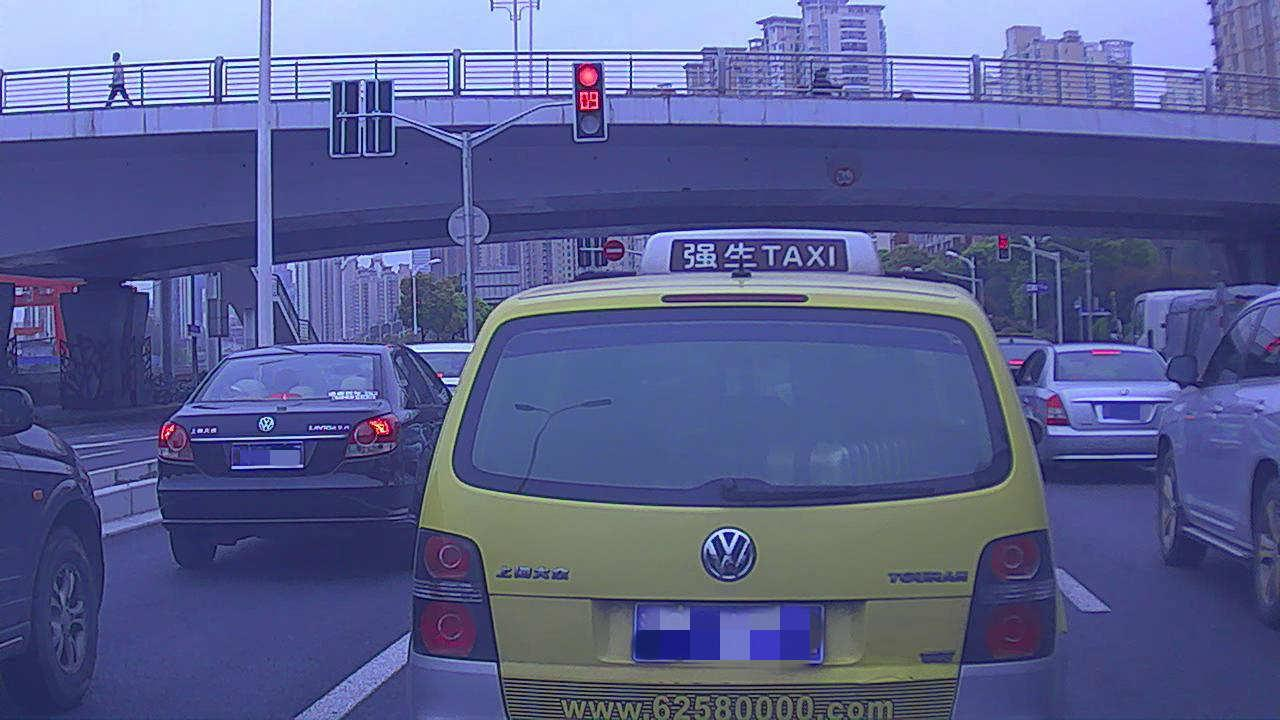traffic_light: (574, 60, 606, 144)
